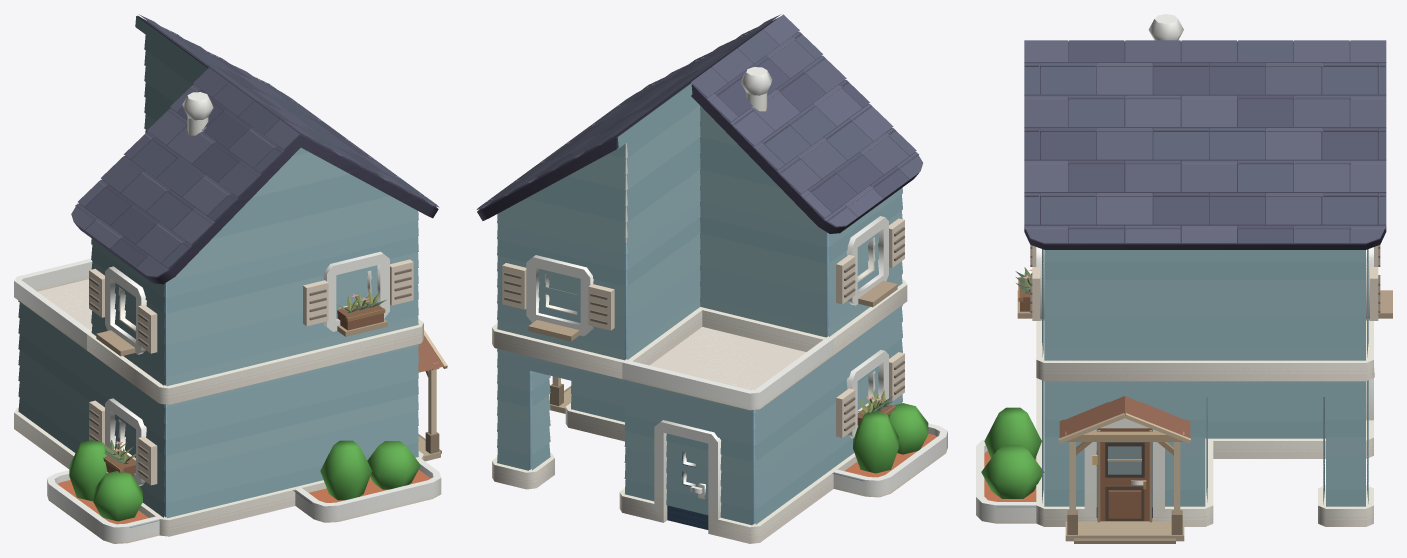
File: house-r-sky.glb
3 views of the same model, side by side, from view 1: azimuth 30°, elevation 25°; view 2: azimuth 150°, elevation 25°; view 3: azimuth 270°, elevation 25° (orthographic). The views are drawn at different scales.
Parts seen in each view (by area): view 1: Handlaid_roof_entry_porch_and_joinery, building-type-r, Details; view 2: Handlaid_roof_entry_porch_and_joinery, building-type-r, Details; view 3: Handlaid_roof_entry_porch_and_joinery, building-type-r, Details.
Boxes of the visible parts, left/top/right/bottom form: Handlaid_roof_entry_porch_and_joinery: left=18, top=14, right=447, bottom=527; building-type-r: left=14, top=15, right=441, bottom=543; Details: left=89, top=259, right=413, bottom=485; Handlaid_roof_entry_porch_and_joinery: left=476, top=14, right=922, bottom=525; building-type-r: left=477, top=17, right=947, bottom=543; Details: left=502, top=218, right=904, bottom=437; Handlaid_roof_entry_porch_and_joinery: left=996, top=40, right=1392, bottom=543; building-type-r: left=976, top=14, right=1386, bottom=526; Details: left=1032, top=245, right=1378, bottom=320.
Size of the model in its own units: 1.09 by 1.14 by 1.04.
Materials: 39 (1 with a texture image).
